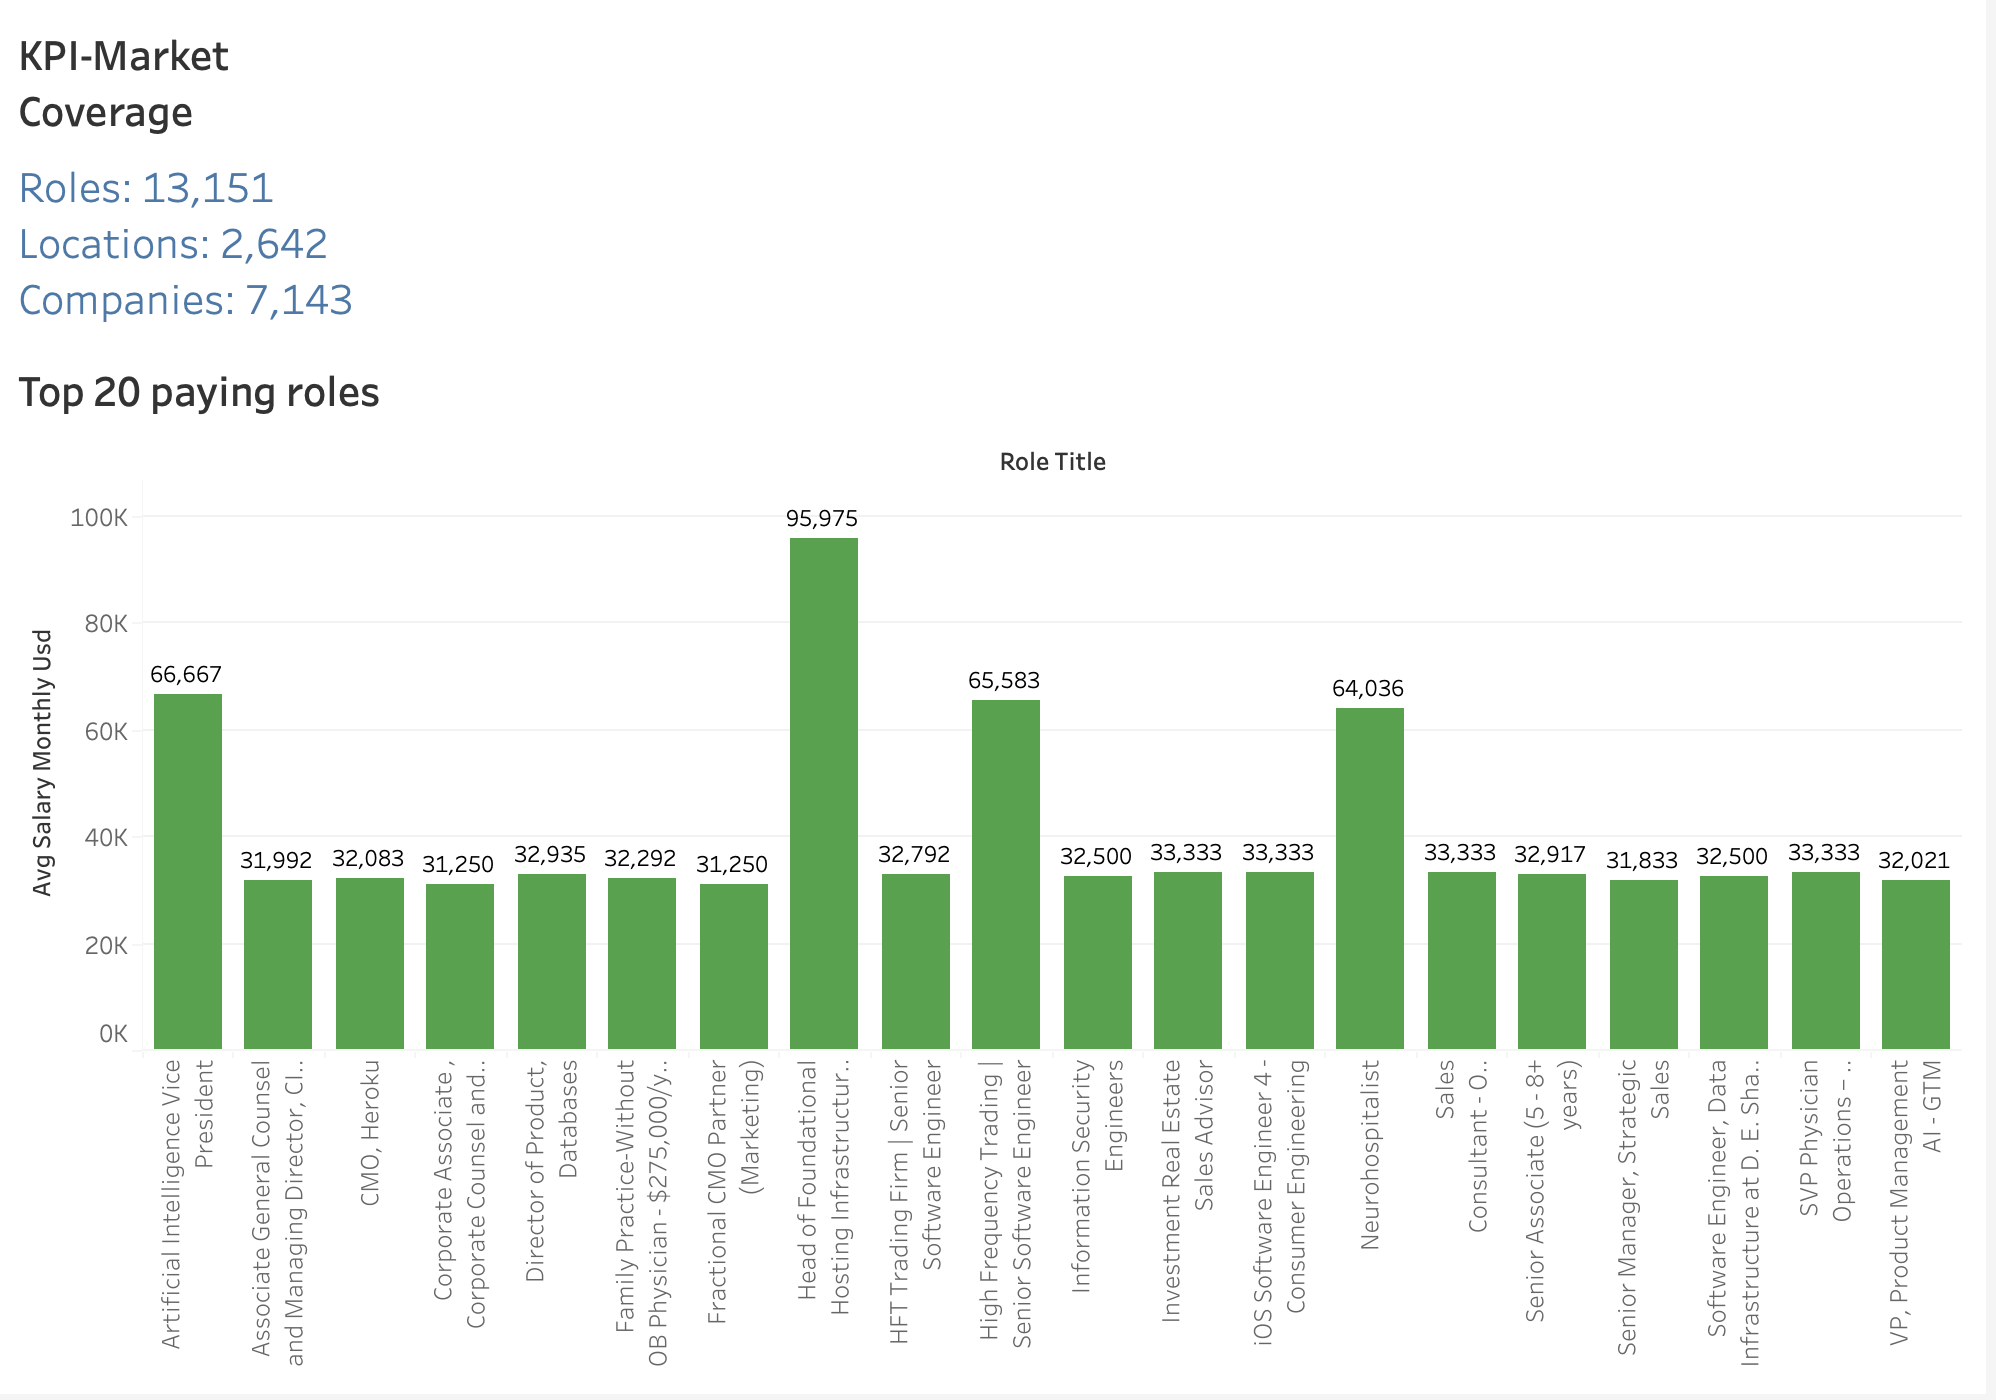

This screenshot's page, from the dashboard's own definition file:
{"tool":"tableau","page":{"name":"Dashboard 1","canvas":[1000,700],"ordinal":0},"visuals":[{"type":"worksheet","title":"KPI -Market  Coverage","mark":"Automatic","box":[8,8,984,167.5]},{"type":"worksheet","title":"Top 20 paying roles","mark":"Bar","rows":["avg_salary_monthly_usd"],"cols":["role_title"],"box":[8,175.5,984,516.5]}]}

Visuals, with their boxes in screenshot pixels (x1, y1, x2, y2), scaled from the page's 1000x700 canvas onto the 1996x1400 screenshot:
"KPI -Market  Coverage" worksheet: 16,16,1980,351
"Top 20 paying roles" worksheet (Bar marks): 16,351,1980,1384
